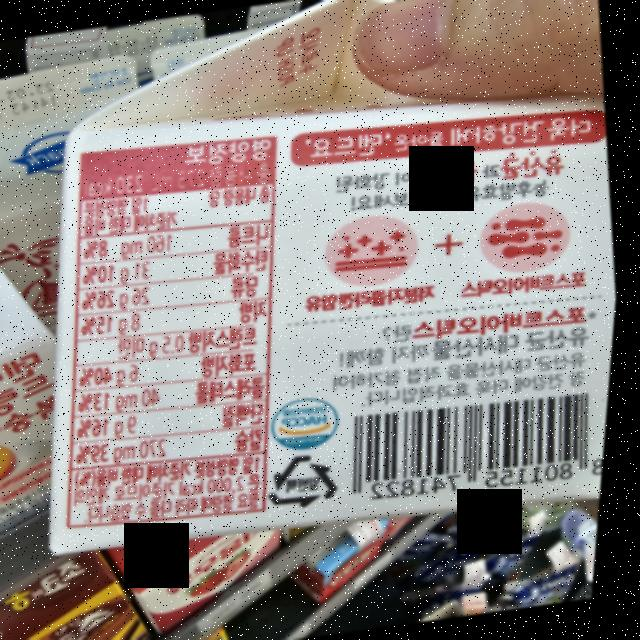NormalPack: (269, 448, 352, 516)
